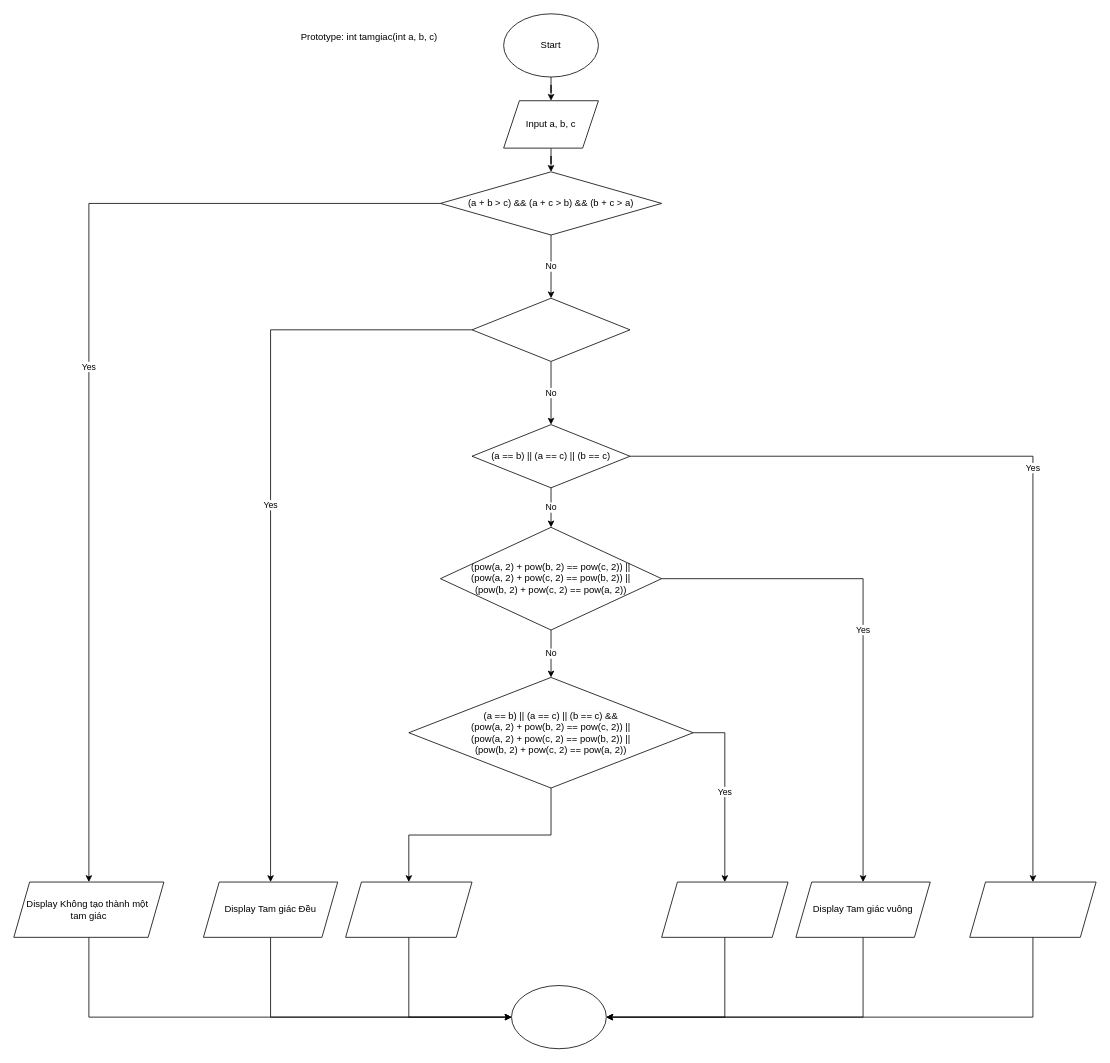
The diagram is 1110 pixels wide and 1063 high, and some of its shapes have lost their labels. Each missing label, with the centre of its shape:
(a == b) && (b == c): pixel 550 329
Display Tam giác cân: pixel 1032 909
Display Tam giác thường: pixel 408 909
Display Tam giác Vuông cân: pixel 724 909
End: pixel 558 1017
